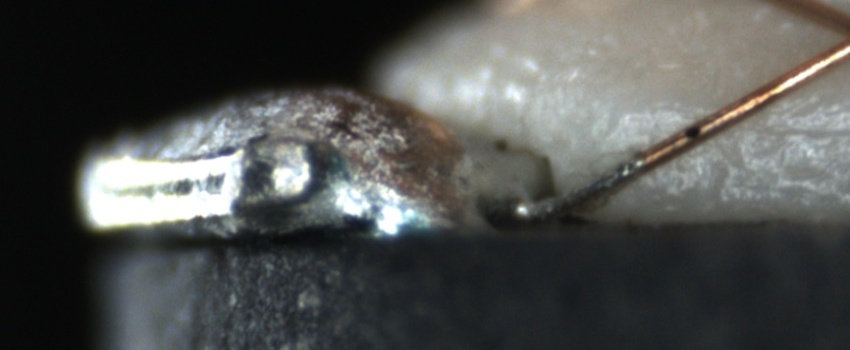CL: (827, 5, 850, 57)
DL: (722, 100, 850, 161)
TS: (520, 151, 648, 222)
TTCW: (506, 131, 695, 222)
